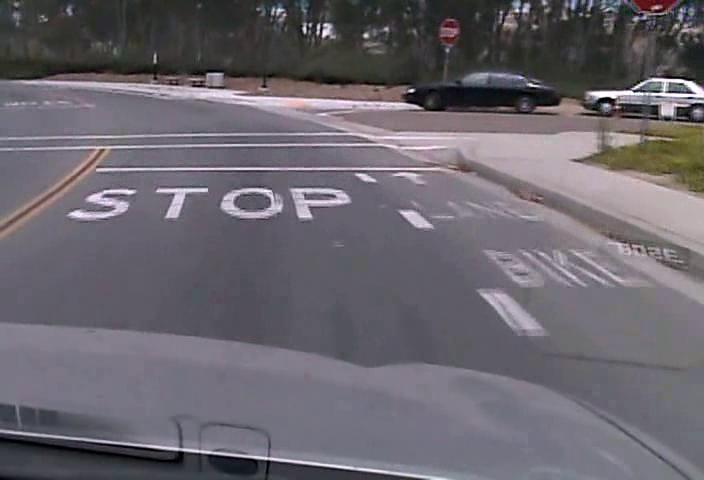stop: (438, 18, 459, 46)
